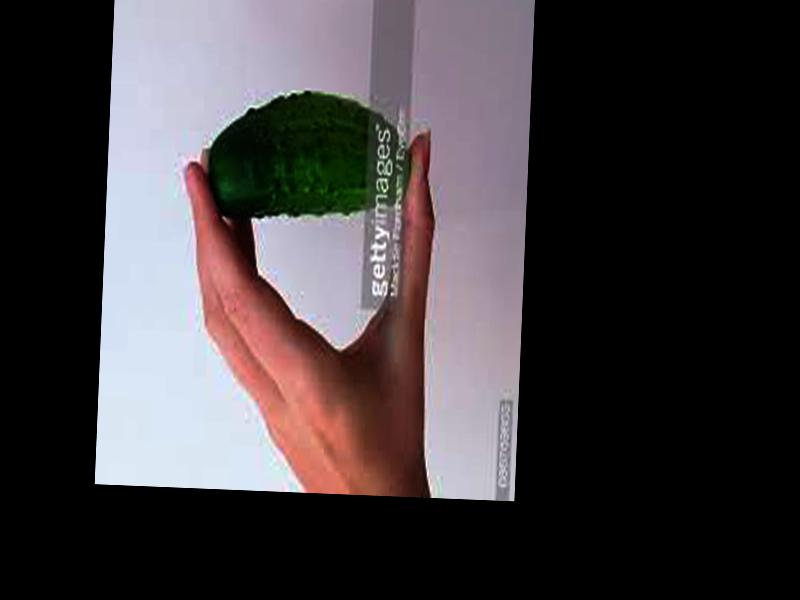Cucumber: (206, 87, 414, 223)
